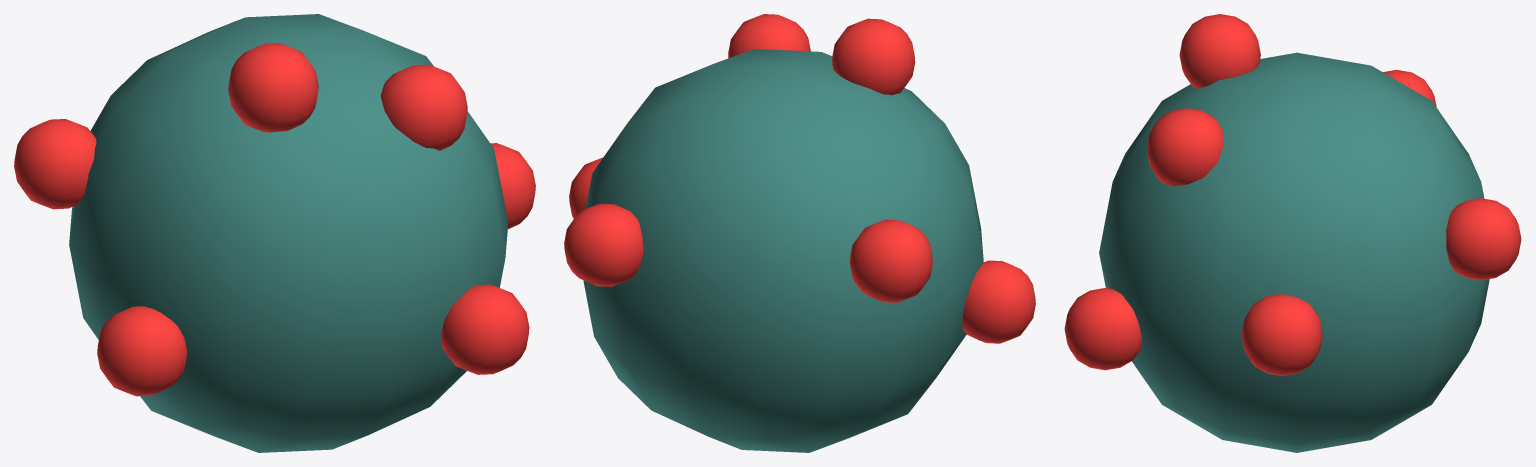
The model's file is bush.fbx.
3 views of the same model, side by side, from view 1: azimuth 30°, elevation 25°; view 2: azimuth 150°, elevation 25°; view 3: azimuth 270°, elevation 25° (orthographic). The views are drawn at different scales.
Parts seen in each view (by area): view 1: bush; view 2: bush; view 3: bush.
Part boxes in pixels (x1,y1,x2,y2): bush: (14, 14, 535, 452); bush: (564, 14, 1035, 452); bush: (1064, 14, 1521, 452).
Bounding box in the file's own units: 233 × 207 × 221.
